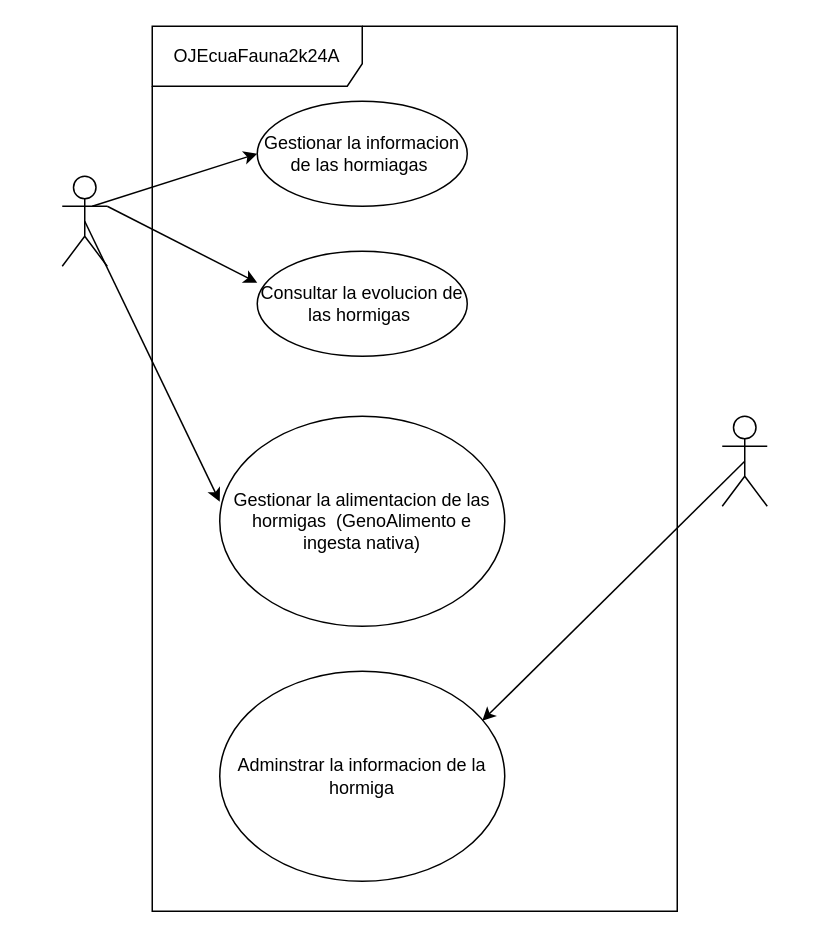
The diagram is 815 pixels wide and 938 high, and some of its shapes have lost their labels. Each missing label, with the centre of its shape:
"OJEntomólogo" goes at point (84, 220).
"OJSistema" goes at point (744, 460).
